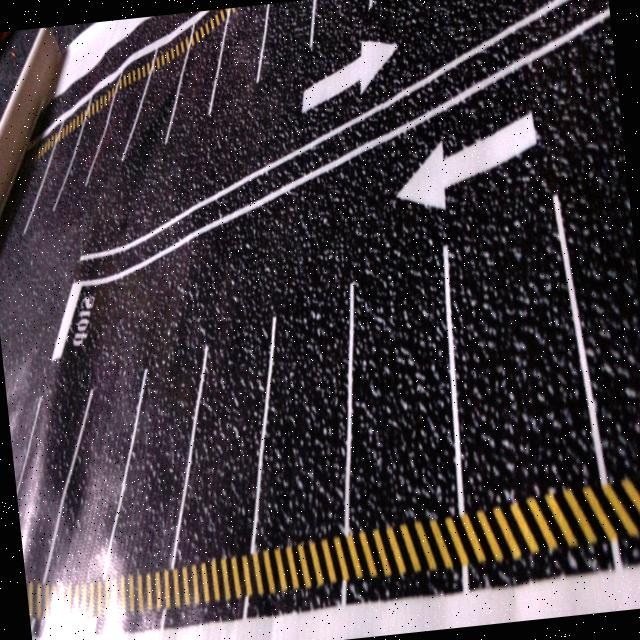slots: (451, 201, 597, 504), (350, 227, 455, 527), (255, 280, 348, 548), (178, 315, 270, 560), (111, 348, 202, 569), (51, 370, 142, 581), (17, 386, 87, 581), (85, 50, 155, 188), (123, 55, 183, 186), (166, 19, 225, 151), (53, 101, 111, 210), (23, 133, 79, 234)
